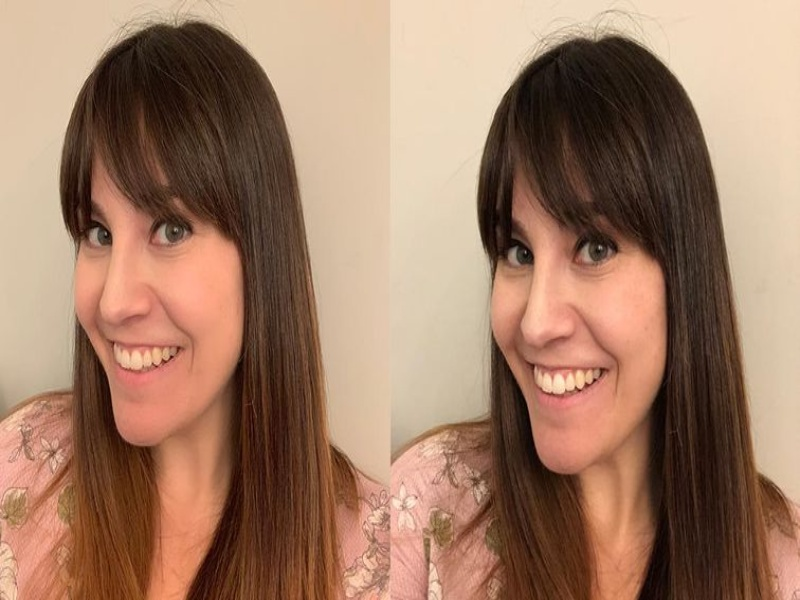smile: (491, 185, 665, 471), (72, 153, 239, 446)
